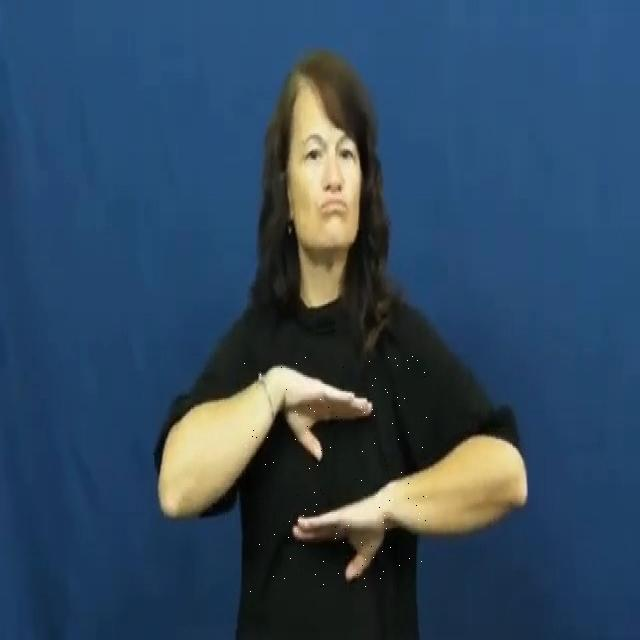enjoy: (244, 352, 427, 594)
